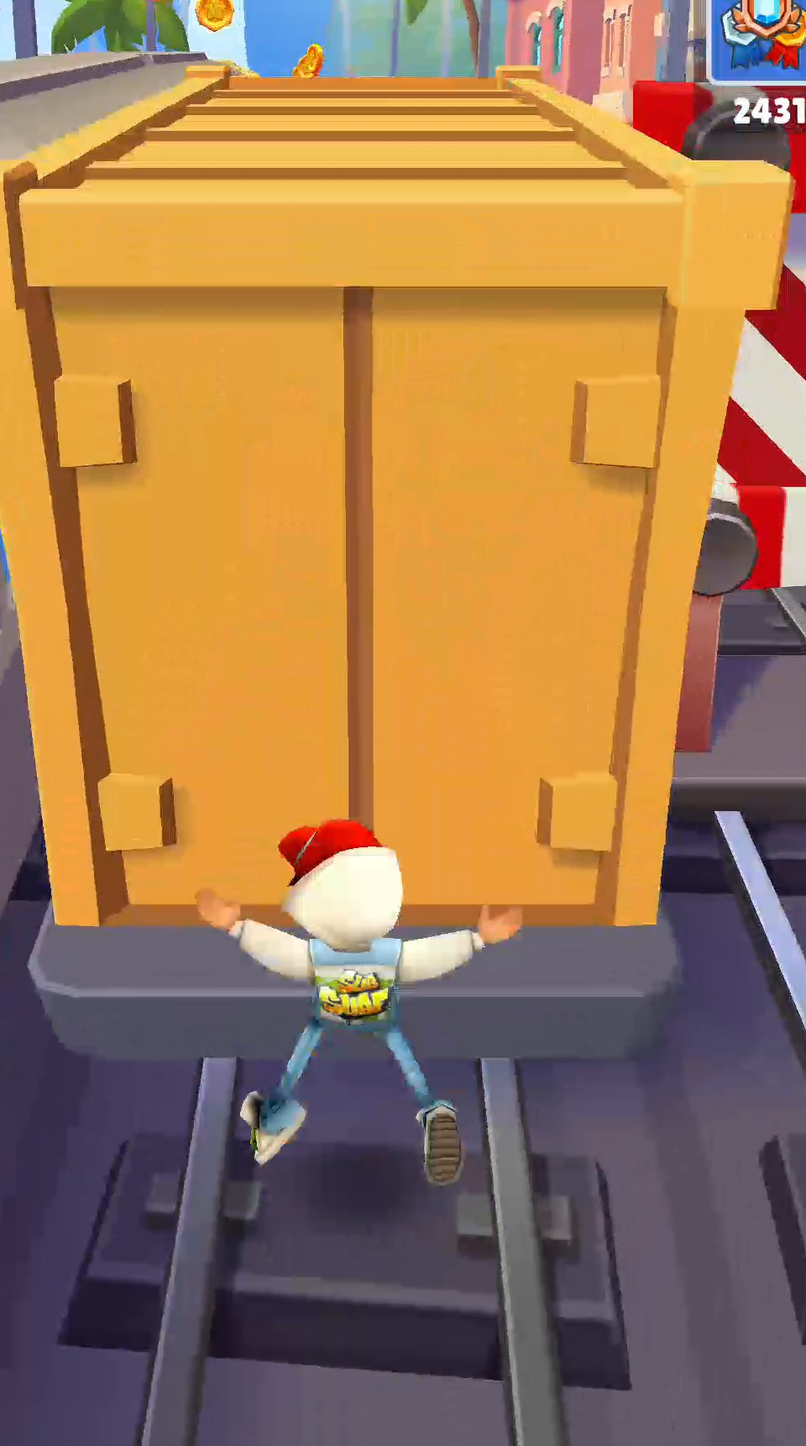jump-barrier: (633, 81, 805, 752)
train: (0, 66, 790, 1060)
